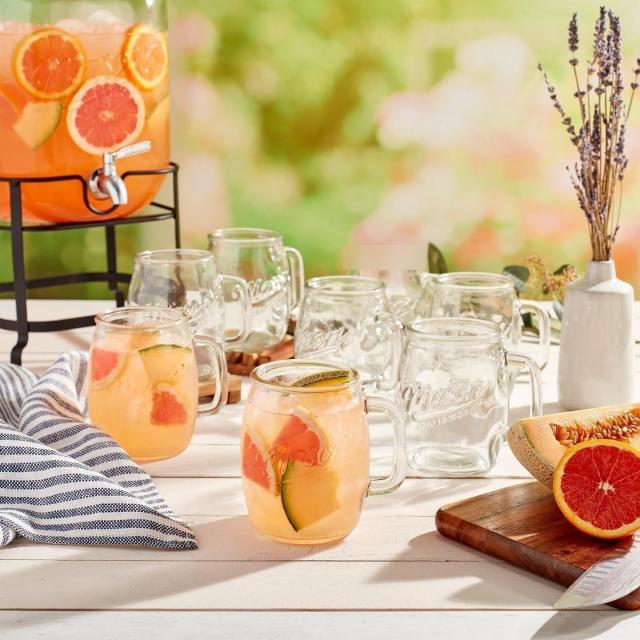glass-mug: (235, 353, 410, 554), (403, 314, 545, 482), (85, 306, 231, 466), (126, 247, 255, 381), (421, 269, 552, 379), (293, 273, 404, 395), (205, 226, 307, 354)
